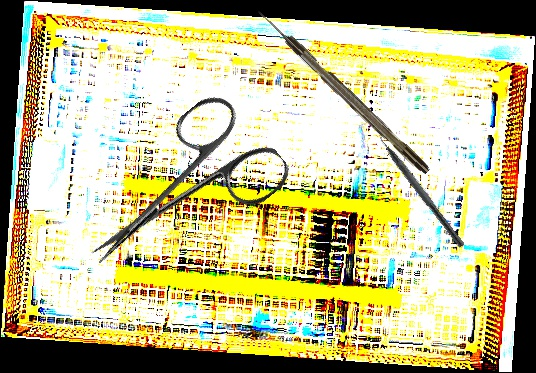Chopper: (368, 121, 474, 250)
Hook Surgical: (255, 6, 431, 177)
Iris Scissors: (60, 83, 296, 307)
